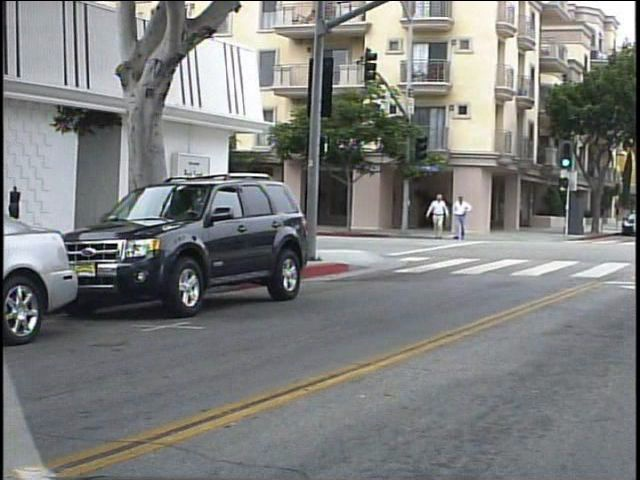person: (427, 189, 453, 244), (452, 190, 476, 243)
